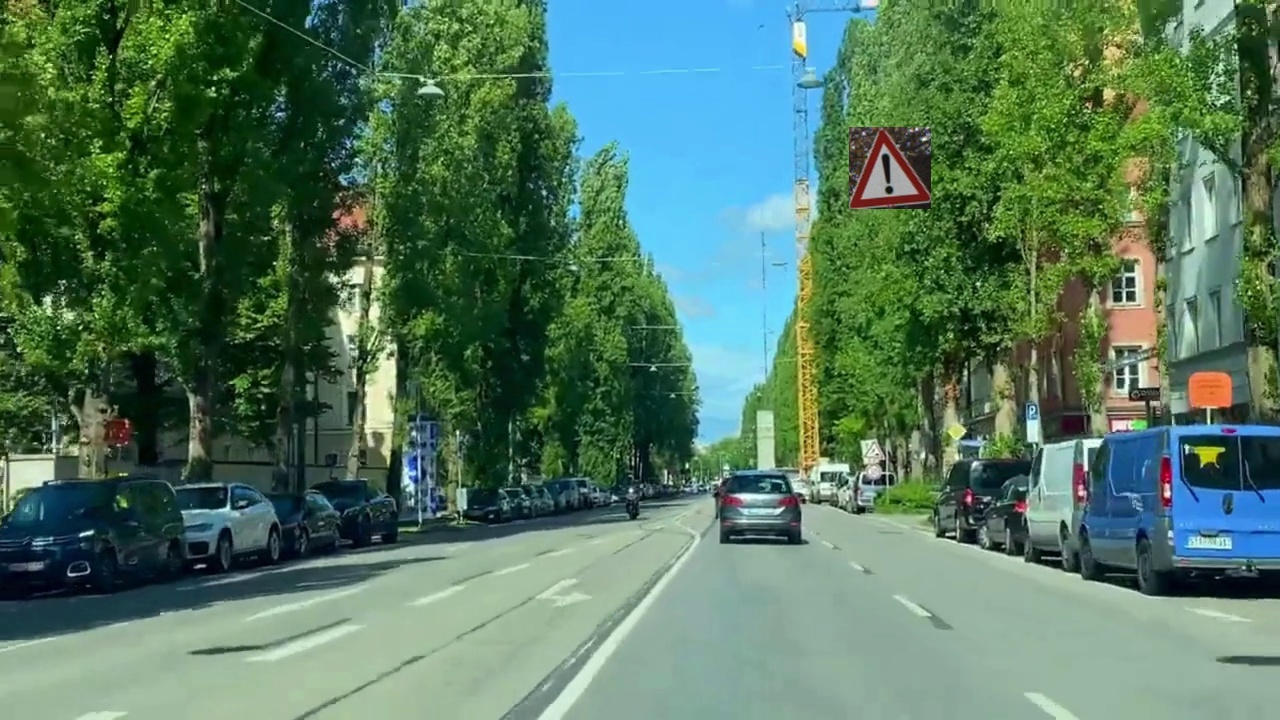Caution: (849, 127, 931, 209)
